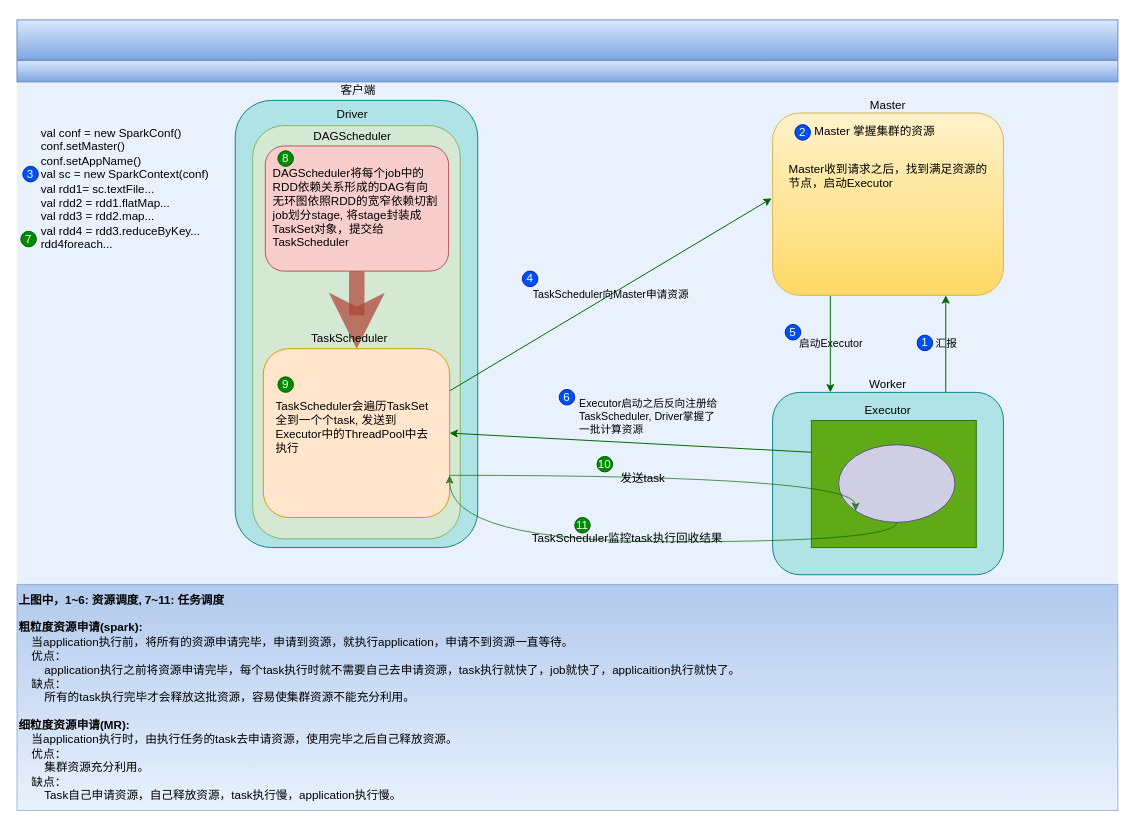
Image size: 1135x827. Some labels were removed from this diagram. Each missing label, with the centre of its shape:
"Spark的资源调度和任务调度 standalone-client模式" belongs at [567,39].
"ThreadPool" belongs at [896,483].
"作者：独孤求败 邮箱：david.tian@live.com" belongs at [567,71].
